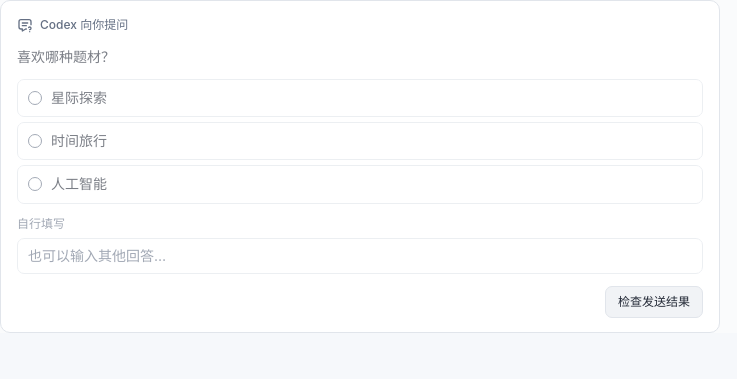
Scenario: shows unconfirmed restored commands as read-only receipt checks after reload
The width and height of the screenshot is (737, 379).
Click the button "检查发送结果" at (654, 302), box [605,286,703,318]
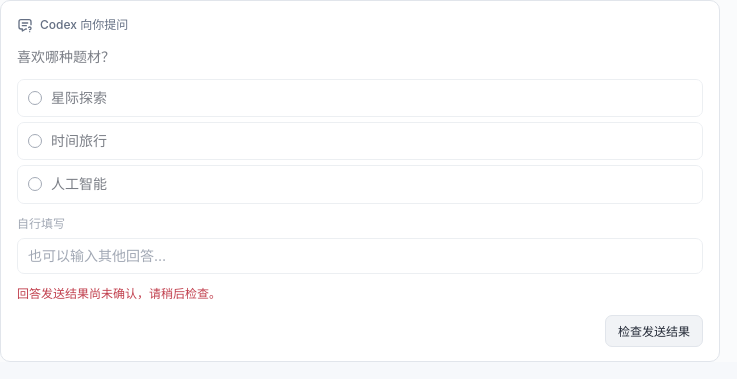
Expected: the message "回答发送结果尚未确认，请稍后检查。" is shown, [17,286,221,301]
